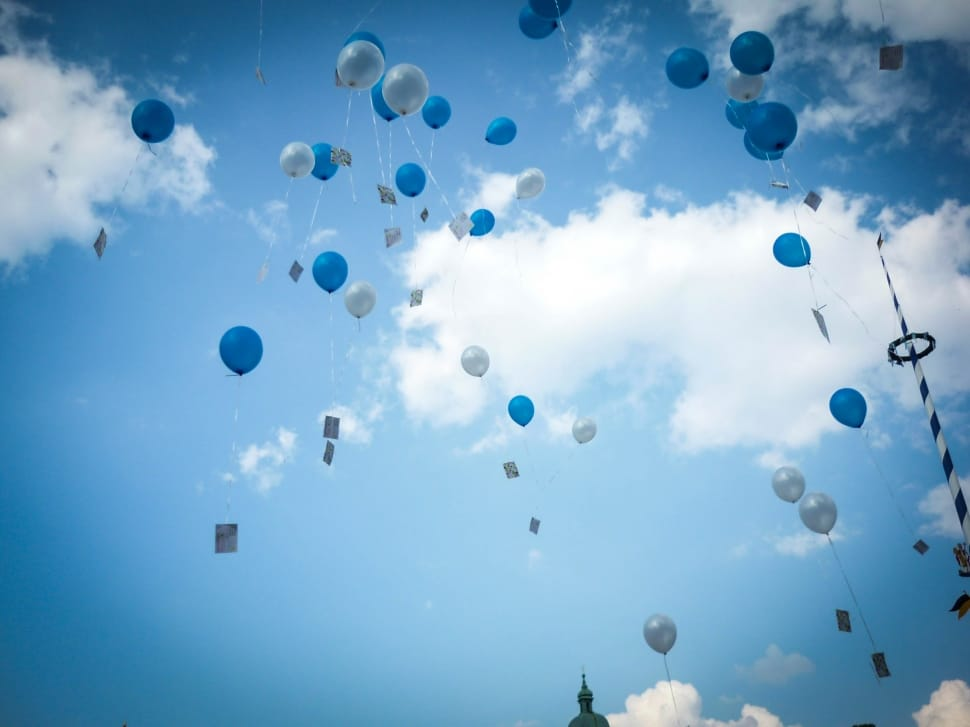Balloon: (335, 39, 384, 91), (747, 101, 797, 150), (382, 63, 429, 114), (218, 325, 264, 375), (729, 31, 775, 76), (131, 99, 174, 144), (665, 47, 708, 88), (799, 493, 838, 533), (829, 388, 866, 429), (312, 251, 348, 292), (725, 66, 764, 102), (773, 232, 811, 268), (279, 141, 315, 178), (519, 5, 558, 39), (771, 465, 804, 504), (343, 279, 376, 318), (644, 614, 677, 653), (395, 162, 425, 197), (310, 143, 338, 180), (421, 94, 450, 129), (461, 345, 490, 377), (515, 168, 545, 198), (486, 116, 516, 146), (508, 395, 534, 426), (468, 209, 495, 236), (572, 417, 596, 444)
